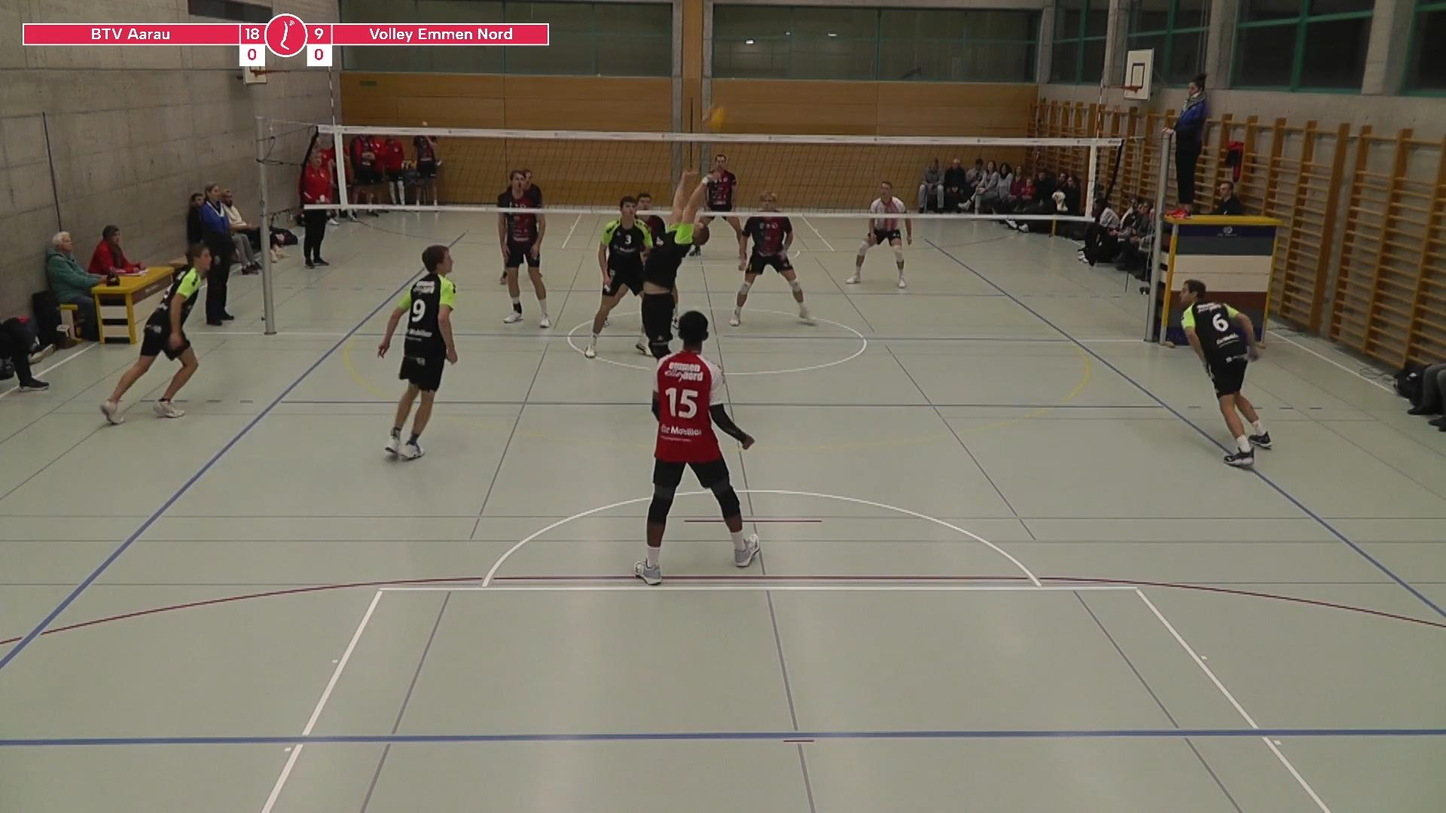Player: (635, 311, 758, 585), (100, 243, 210, 424), (377, 245, 457, 459), (1182, 280, 1271, 467), (584, 196, 652, 358), (730, 215, 813, 326), (846, 181, 911, 288), (498, 212, 551, 327), (704, 154, 745, 270), (637, 192, 666, 245)
Set: (638, 166, 720, 387)
ball: (699, 102, 728, 130)
